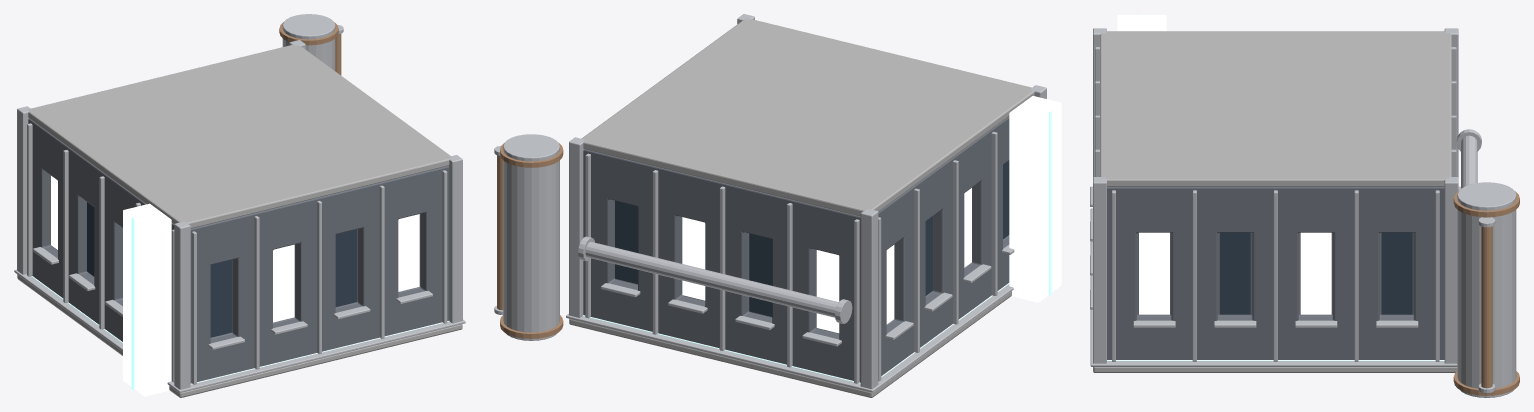
The model's file is svc_5x5.glb.
3 renders of one model, left to right at view 1: azimuth 30°, elevation 25°; view 2: azimuth 150°, elevation 25°; view 3: azimuth 270°, elevation 25°, orthographic. The views are drawn at different scales.
Parts seen in each view (by area): view 1: int_ceiling, ext_wall, ext_frames, ext_lift, int_columns, ext_panes_dark, ext_panes_lit, int_slab_edge, int_slab, ext_svc_tower, ext_lift_glow, int_grid (+1 smaller); view 2: int_ceiling, ext_wall, ext_svc_tower, ext_frames, ext_lift, int_columns, ext_duct, ext_panes_lit, ext_panes_dark, int_slab_edge, int_slab, ext_svc_pipe (+4 smaller); view 3: int_ceiling, ext_wall, ext_svc_tower, ext_frames, int_columns, ext_panes_lit, ext_panes_dark, int_slab_edge, int_slab, ext_svc_pipe, ext_lift, ext_duct (+2 smaller).
Boxes of the visible parts, x1,y1,x2,y2 form: int_ceiling: [27, 44, 451, 228]; ext_wall: [28, 118, 449, 383]; ext_frames: [27, 123, 447, 384]; ext_lift: [123, 203, 171, 396]; int_columns: [17, 40, 462, 389]; ext_panes_dark: [87, 202, 356, 337]; ext_panes_lit: [51, 176, 419, 322]; int_slab_edge: [14, 269, 465, 392]; int_slab: [17, 274, 462, 397]; ext_svc_tower: [282, 14, 335, 70]; ext_lift_glow: [131, 217, 134, 389]; int_grid: [31, 276, 449, 384]; int_ceiling: [581, 18, 1034, 216]; ext_wall: [583, 116, 1009, 382]; ext_svc_tower: [503, 134, 559, 340]; ext_frames: [585, 131, 1014, 383]; ext_lift: [1009, 96, 1061, 302]; int_columns: [569, 14, 1046, 389]; ext_duct: [585, 241, 838, 317]; ext_panes_lit: [682, 188, 971, 333]; ext_panes_dark: [615, 160, 1009, 316]; int_slab_edge: [566, 284, 1013, 392]; int_slab: [569, 291, 1011, 397]; ext_svc_pipe: [497, 155, 503, 310]; int_ceiling: [1100, 31, 1451, 186]; ext_wall: [1107, 186, 1444, 359]; ext_svc_tower: [1457, 182, 1516, 397]; ext_frames: [1090, 47, 1460, 361]; int_columns: [1093, 28, 1458, 363]; ext_panes_lit: [1139, 232, 1331, 314]; ext_panes_dark: [1220, 232, 1412, 314]; int_slab_edge: [1090, 208, 1457, 366]; int_slab: [1093, 367, 1457, 372]; ext_svc_pipe: [1481, 226, 1492, 388]; ext_lift: [1117, 15, 1166, 31]; ext_duct: [1461, 135, 1477, 188].
Size of the model in its own units: 6.69 by 3 by 6.11.
